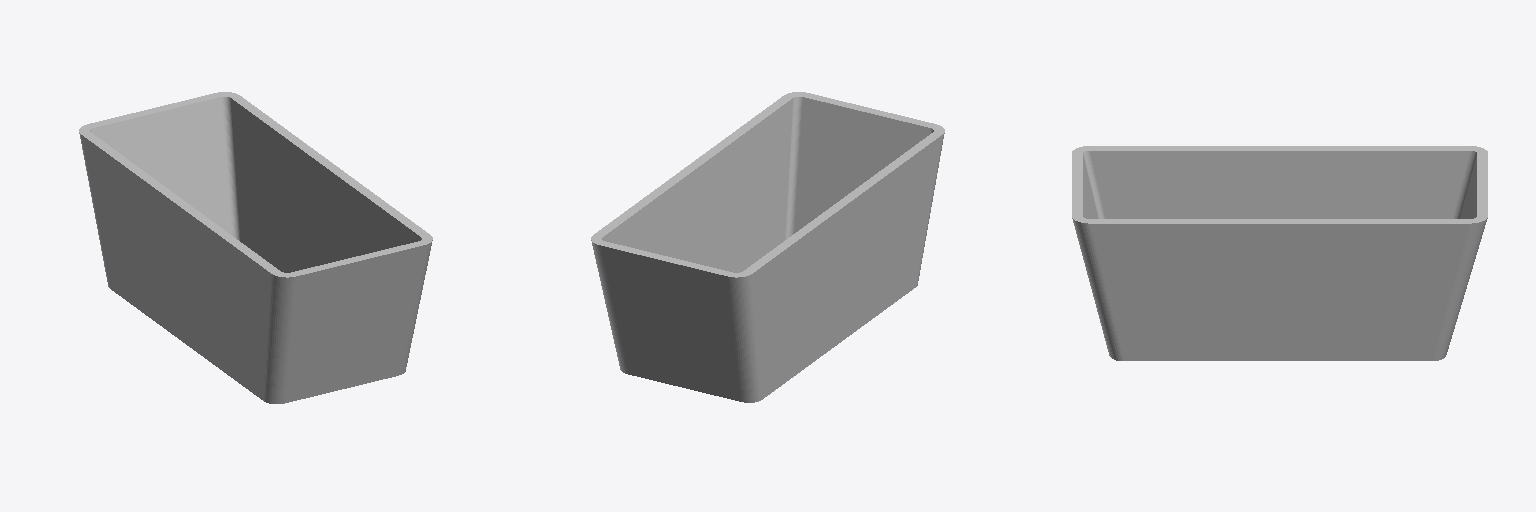
Rendered from VANCOVER_BLANCA.obj.
3 renders of one model, left to right at view 1: azimuth 30°, elevation 25°; view 2: azimuth 150°, elevation 25°; view 3: azimuth 270°, elevation 25°, orthographic.
Visible parts, largest first — view 1: Mesh1 Group1 Model; view 2: Mesh1 Group1 Model; view 3: Mesh1 Group1 Model.
Part boxes in pixels (left/top/right/bottom): Mesh1 Group1 Model: left=79, top=92, right=432, bottom=403; Mesh1 Group1 Model: left=591, top=92, right=944, bottom=402; Mesh1 Group1 Model: left=1072, top=146, right=1487, bottom=360.
Size of the model in its own units: 75 by 64.2 by 170.